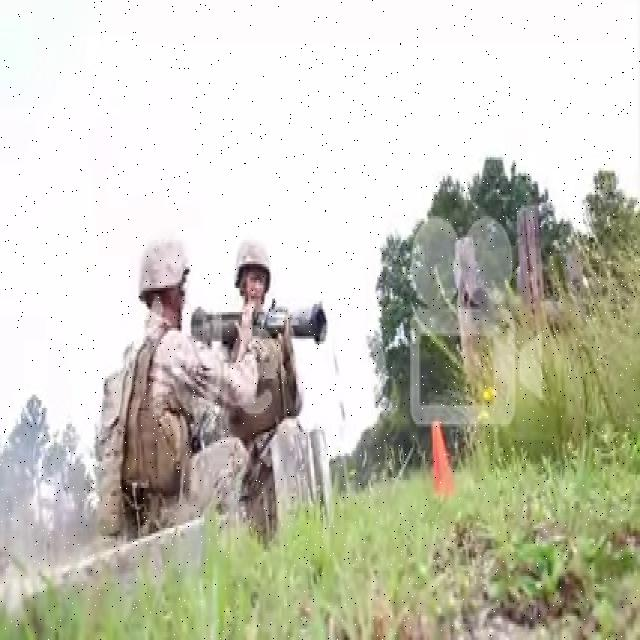bazooka: (188, 301, 331, 351)
